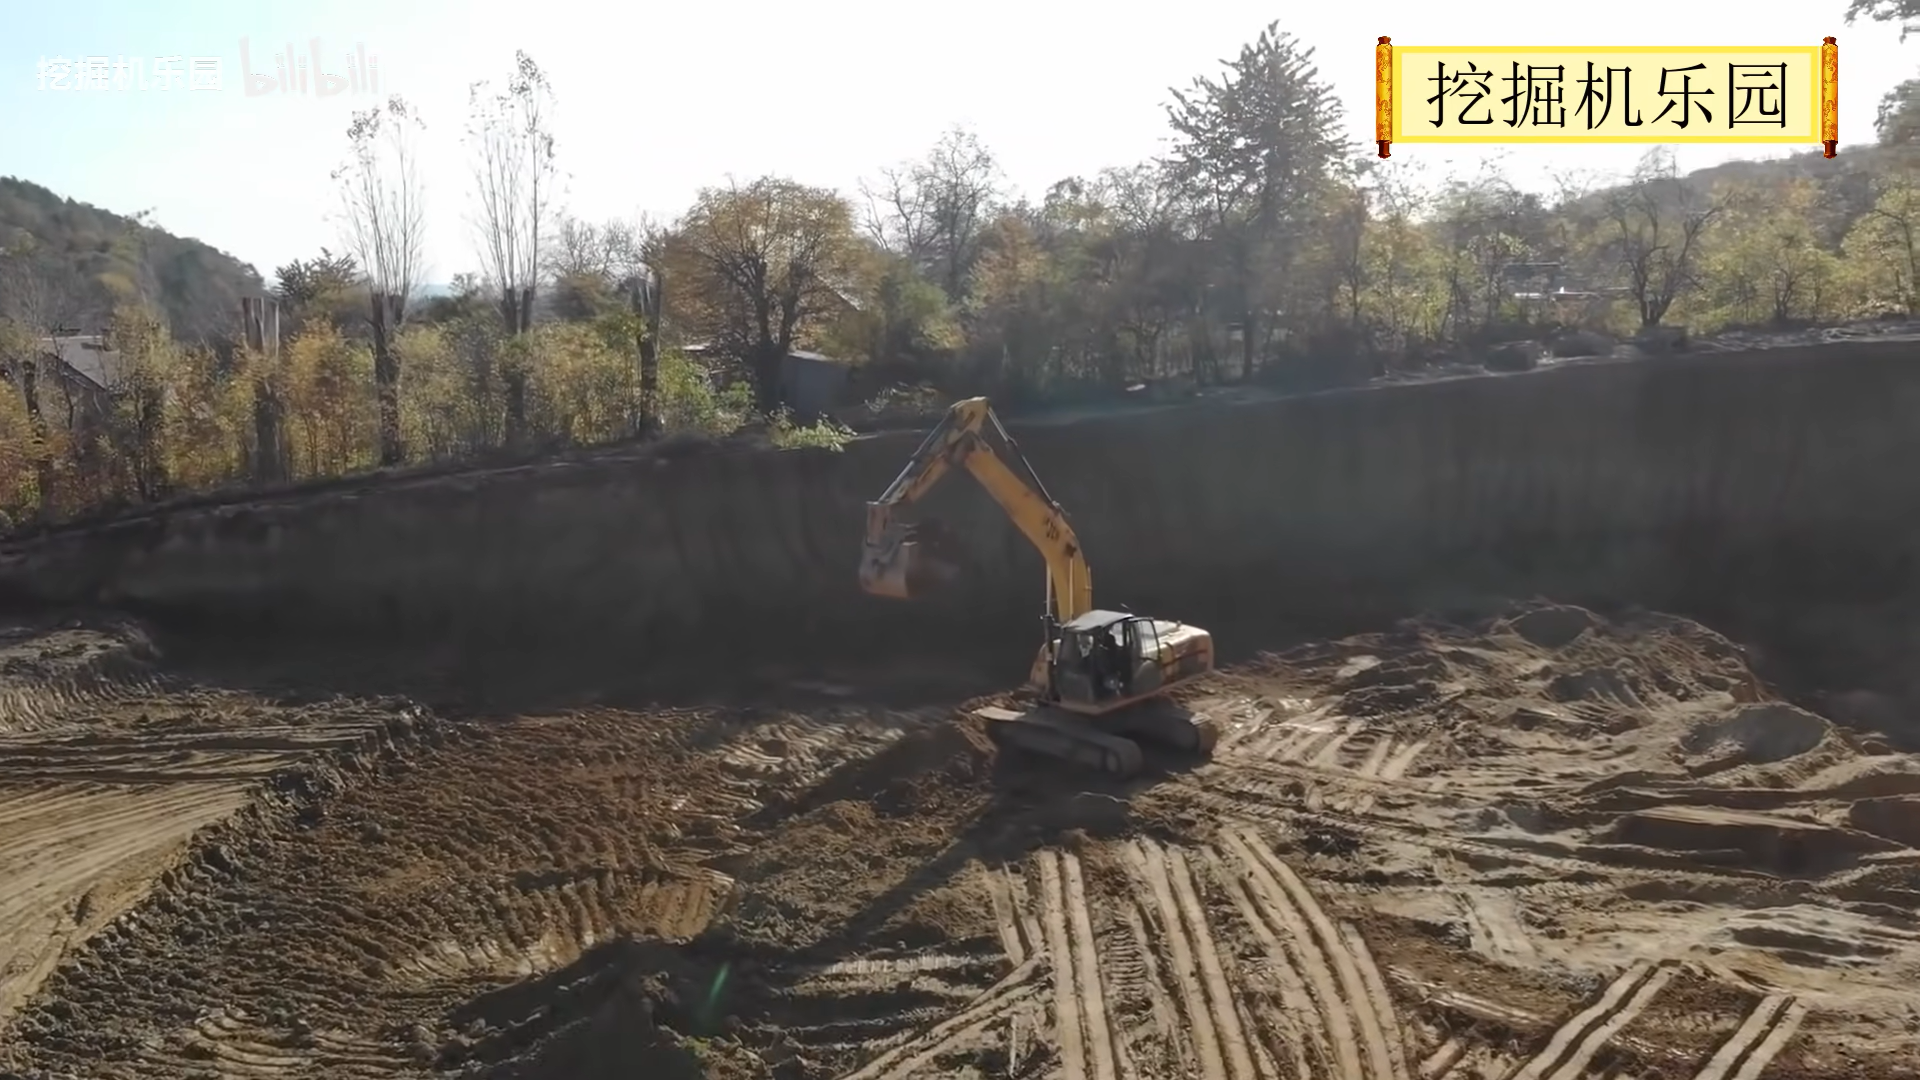excavator: (860, 381, 1240, 800)
